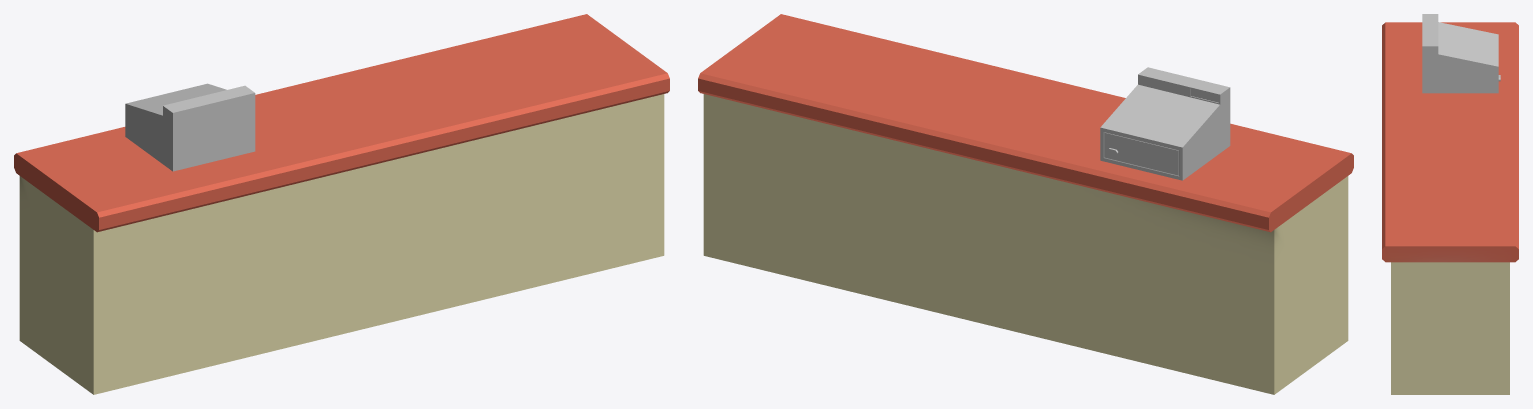
Rendered from Counter.fbx.
3 views of the same model, side by side, from view 1: azimuth 30°, elevation 25°; view 2: azimuth 150°, elevation 25°; view 3: azimuth 270°, elevation 25° (orthographic). The views are drawn at different scales.
Visible parts, largest first — view 1: Counter; view 2: Counter; view 3: Counter.
Part boxes in pixels (left/top/right/bottom): Counter: left=14, top=14, right=669, bottom=394; Counter: left=698, top=14, right=1353, bottom=394; Counter: left=1382, top=14, right=1518, bottom=394.
Size of the model in its own units: 51.61 by 81.56 by 200.
